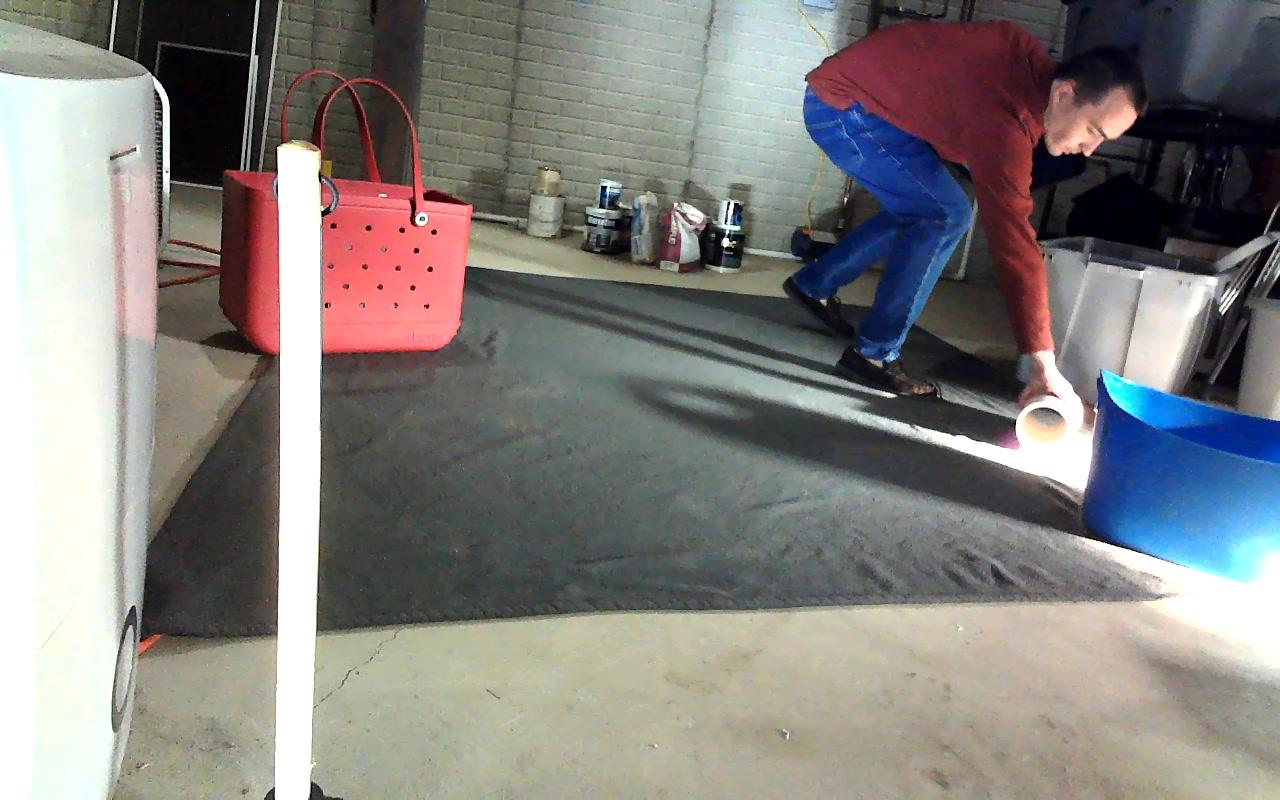coral: (1015, 392, 1080, 448)
